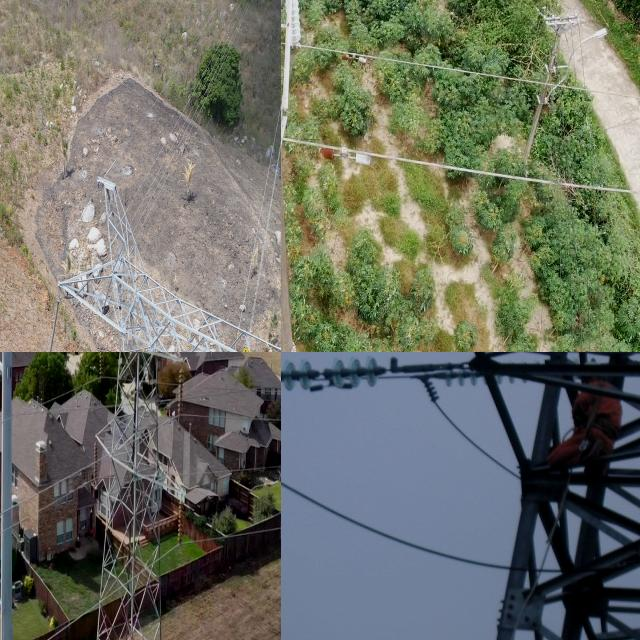杆塔: (348, 352, 640, 640), (46, 168, 281, 352), (84, 352, 174, 640)
正常电缆: (0, 451, 110, 516), (0, 476, 96, 535), (0, 375, 100, 425), (182, 523, 281, 547), (43, 599, 99, 640)
正常绝缘子: (281, 352, 397, 402), (281, 0, 306, 54), (177, 363, 186, 422), (177, 498, 184, 546), (92, 440, 99, 484), (98, 352, 104, 380)
绝缘子破损: (313, 369, 329, 380)
